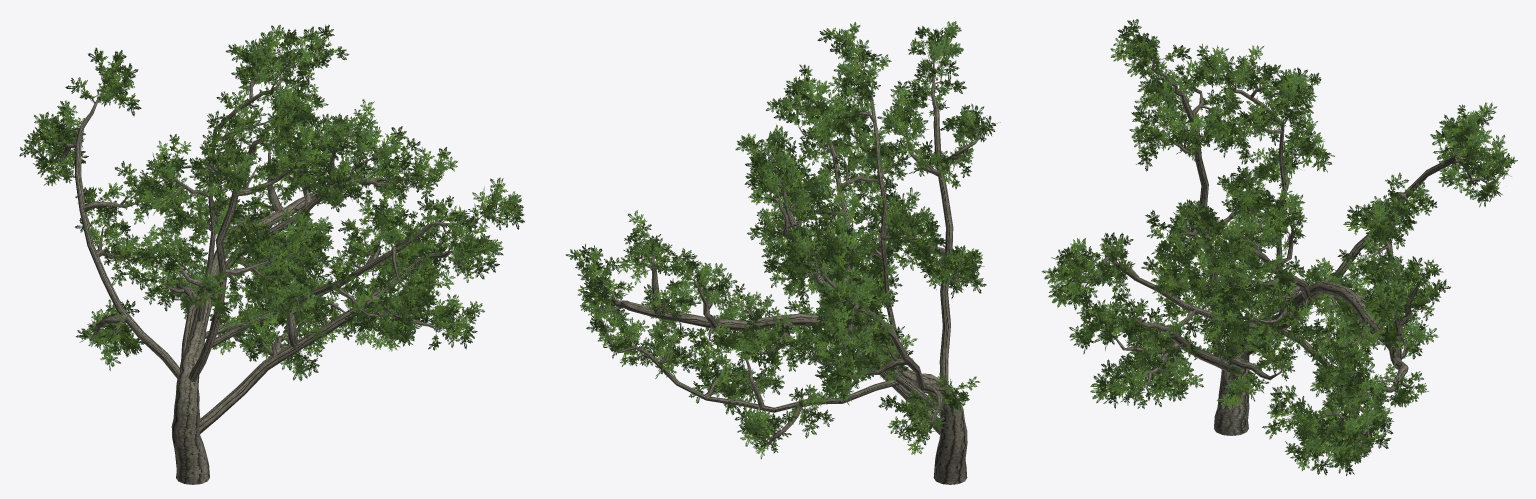
File: tree (5).glb
3 views of the same model, side by side, from view 1: azimuth 30°, elevation 25°; view 2: azimuth 150°, elevation 25°; view 3: azimuth 270°, elevation 25° (orthographic). The views are drawn at different scales.
Visible parts, largest first — view 1: Tree; view 2: Tree; view 3: Tree.
Part boxes in pixels (x1,y1,x2,y2): Tree: (19,24,524,484); Tree: (565,21,1000,484); Tree: (1041,19,1517,475).
Bounding box in the file's own units: 62.78 × 65.69 × 64.56.
Materials: 2 (2 with a texture image).
